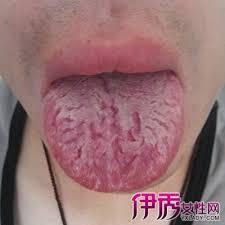baitaishe: (41, 76, 184, 193)
liewenshe: (88, 109, 144, 144)
